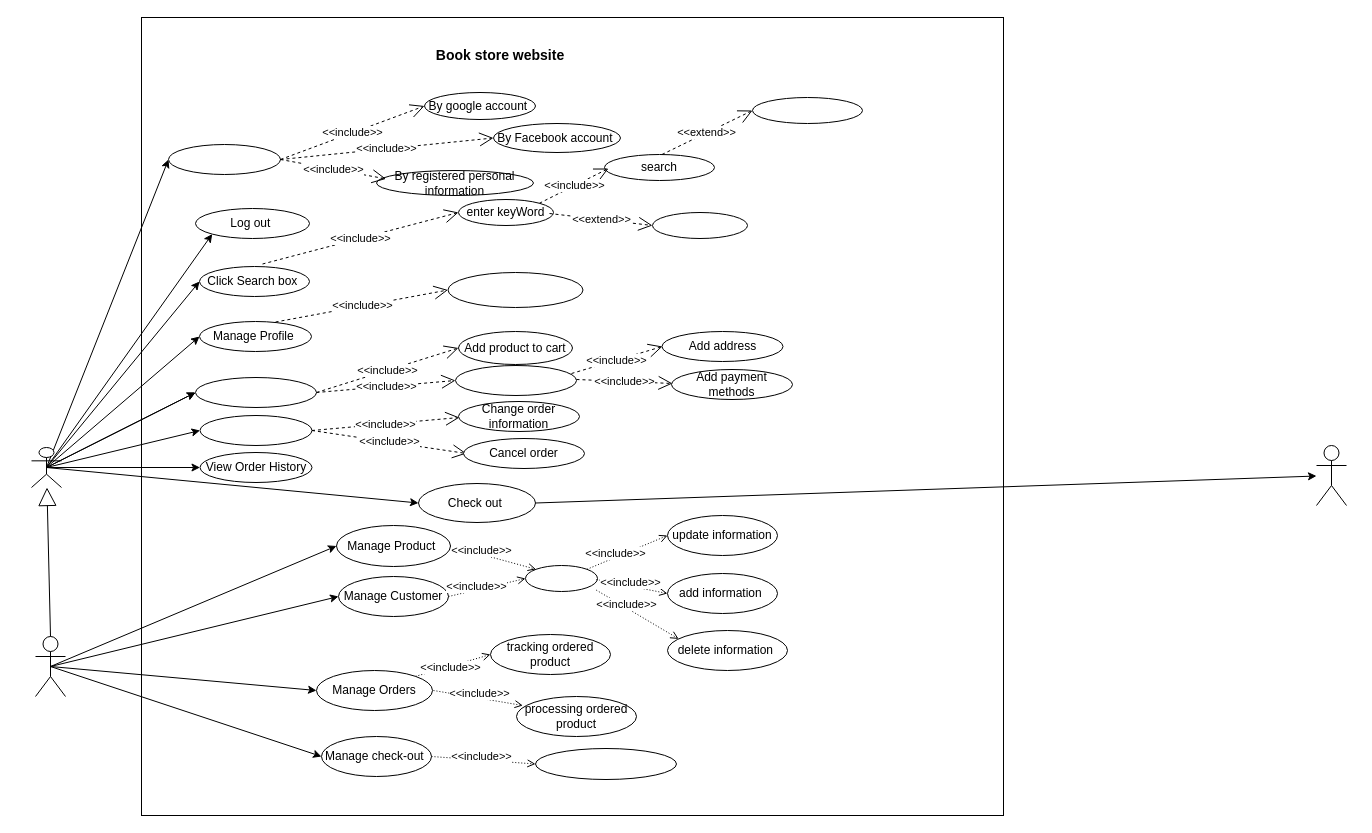
The diagram is 1372 pixels wide and 833 high, and some of its shapes have lost their labels. The centre of each missing label's shape, as x and y in pixels:
Admin: [50,666]
Banking: [1331,475]
Change address, contact: [515,290]
CRUD: [561,578]
Customers: [46,467]
fiter: [700,225]
Manage order: [255,430]
monitoring check-out flow: [605,764]
Order now: [515,380]
Order Products: [255,392]
Sign up/Log in: [224,159]
view product detail: [807,110]
